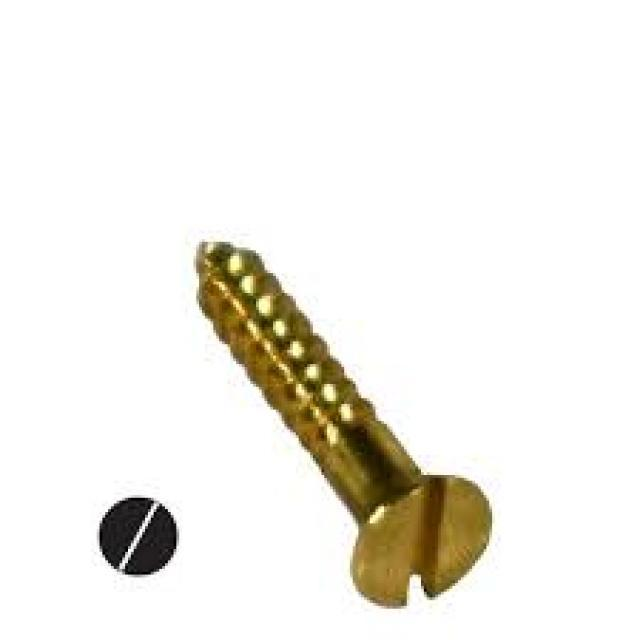Screw: (193, 242, 492, 609)
